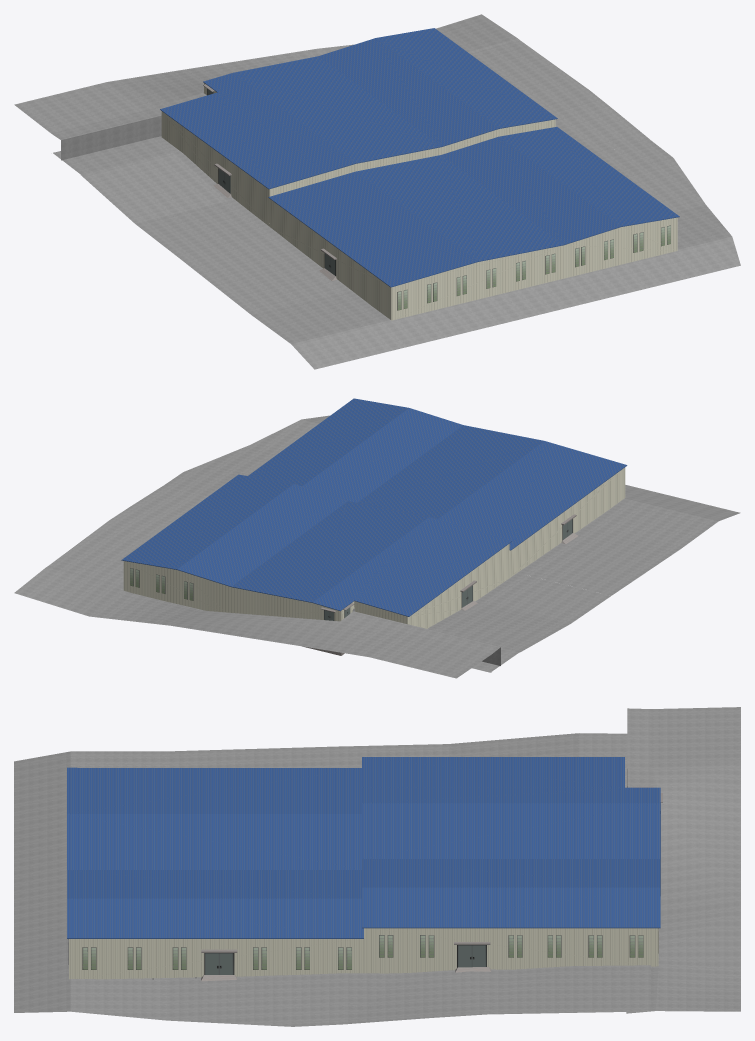
File: 堆石厂.gltf
3 views of the same model, one above another, from view 1: azimuth 30°, elevation 25°; view 2: azimuth 150°, elevation 25°; view 3: azimuth 270°, elevation 25° (orthographic). The views are drawn at different scales.
Parts seen in each view (by area): view 1: DSC-WQ, DSC-DM, DSC-JZ; view 2: DSC-WQ, DSC-DM; view 3: DSC-WQ, DSC-DM.
Boxes of the visible parts, x1,y1,x2,y2 form: DSC-WQ: (160,28,679,320); DSC-DM: (14,14,740,369); DSC-JZ: (269,119,555,196); DSC-WQ: (121,398,627,628); DSC-DM: (14,415,740,678); DSC-WQ: (67,757,662,981); DSC-DM: (14,707,740,1026).
Bounding box in the file's own units: 176 × 19.82 × 193.
Materials: 14 (11 with a texture image).
